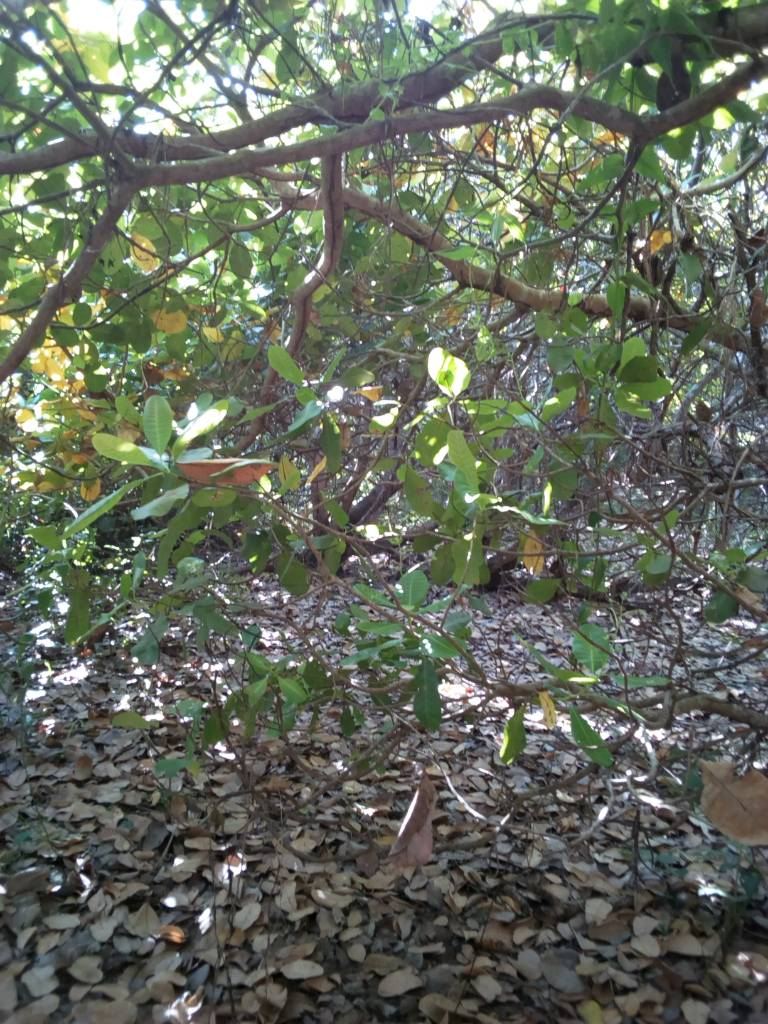Termites: (321, 158, 341, 269)
